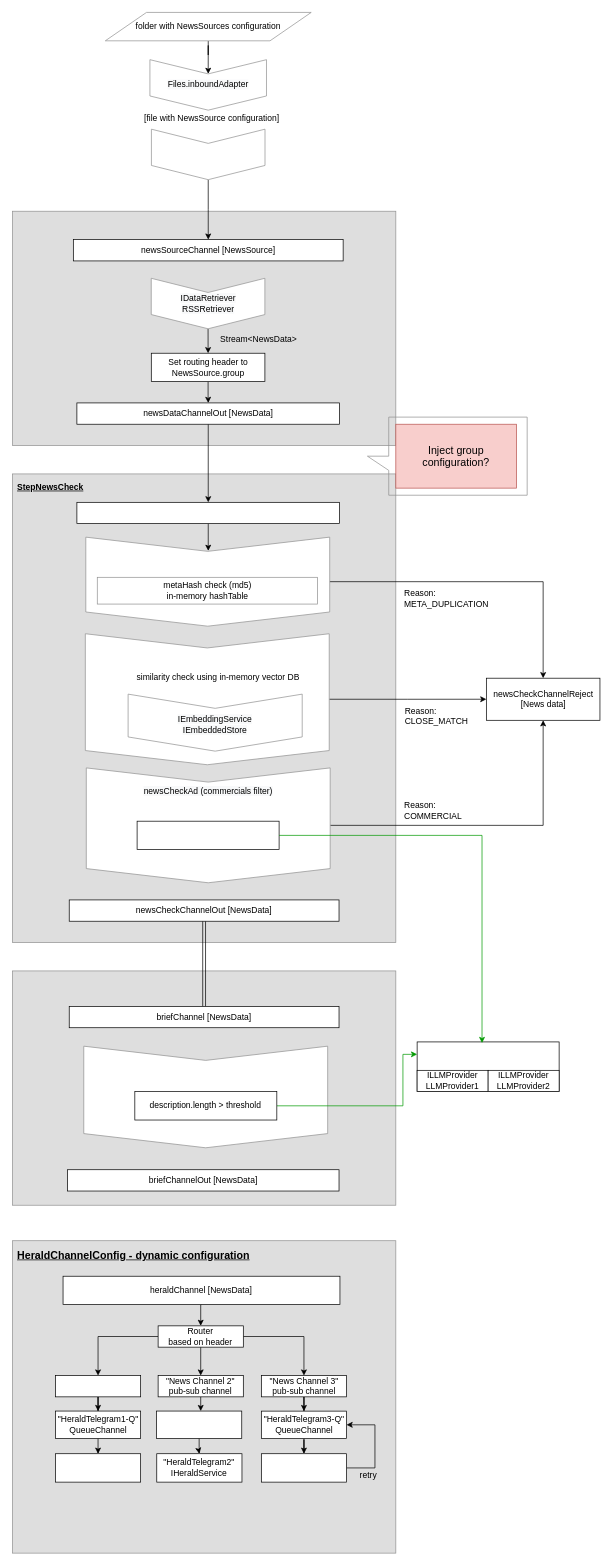
The diagram is 613 pixels wide and 1566 high, and some of its shapes have lost their labels. Each missing label, with the box of its shape:
"HeraldTelegram1" IHeraldService: (55, 1453, 141, 1482)
"HeraldTelegram2-Q" QueueChannel: (156, 1410, 242, 1438)
"HeraldTelegram3" IHeraldService: (261, 1453, 347, 1482)
"News Channel 1" pub-sub channel: (55, 1375, 141, 1397)
Analize text and response Yes/No: (136, 820, 279, 850)
LLMService: (416, 1041, 559, 1092)
newsCheckChannel [NewsData]: (76, 502, 340, 524)
newsCheckData: (85, 633, 329, 765)
newsChecketa: (85, 536, 330, 626)
newsSourceConfigReader: (151, 129, 265, 180)
StepBrief: (12, 970, 396, 1205)
StepProcessNewsSource: (12, 211, 396, 446)
Write summary of a long-text news: (83, 1045, 328, 1148)
